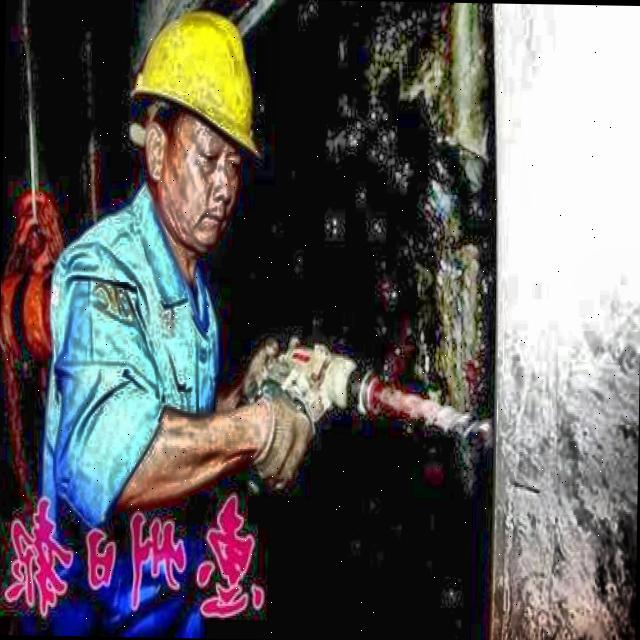helmet: (119, 0, 271, 261)
